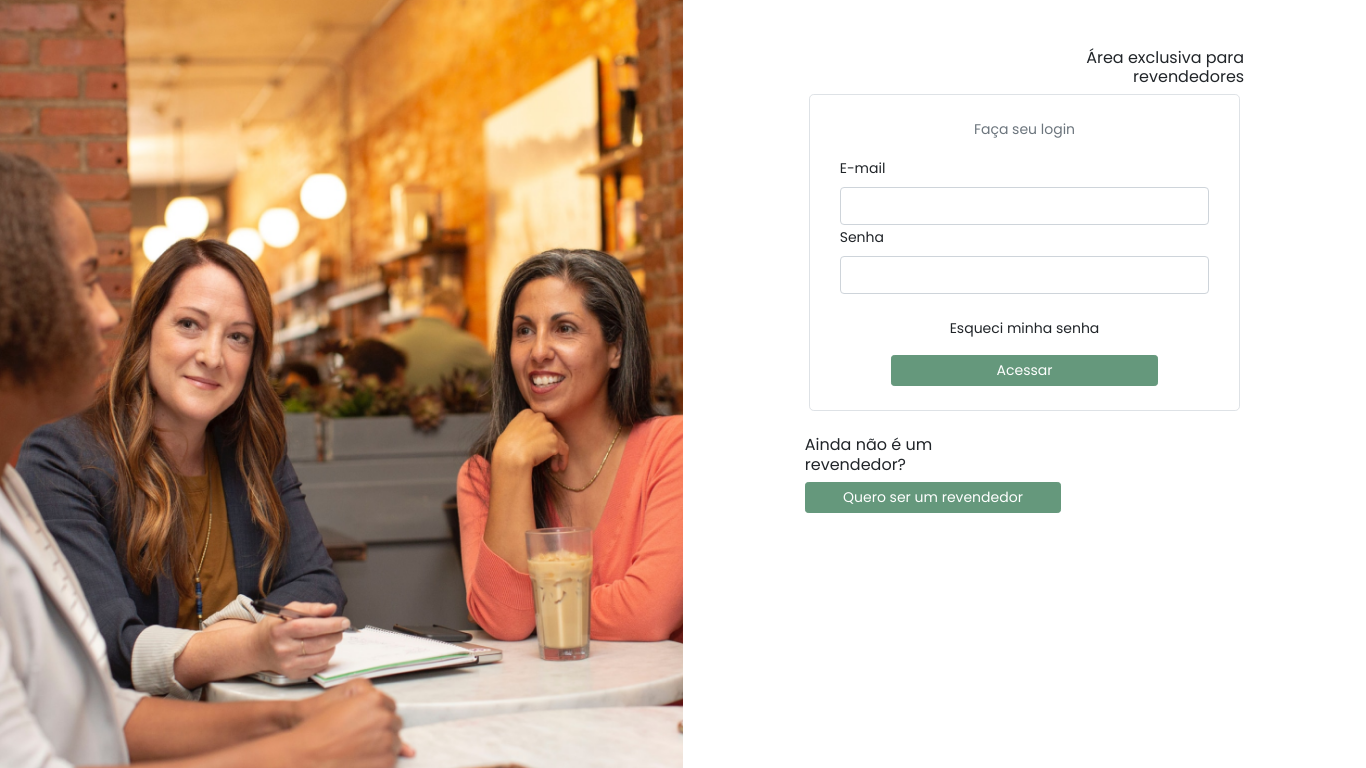
it: Testando página de Login › Deve não conseguir efetuar login, sem preencher senha
In the field with test id "LoginForm_Input_Email": (1024, 206) [840,187,1209,225], type "johndoe@mail.com"
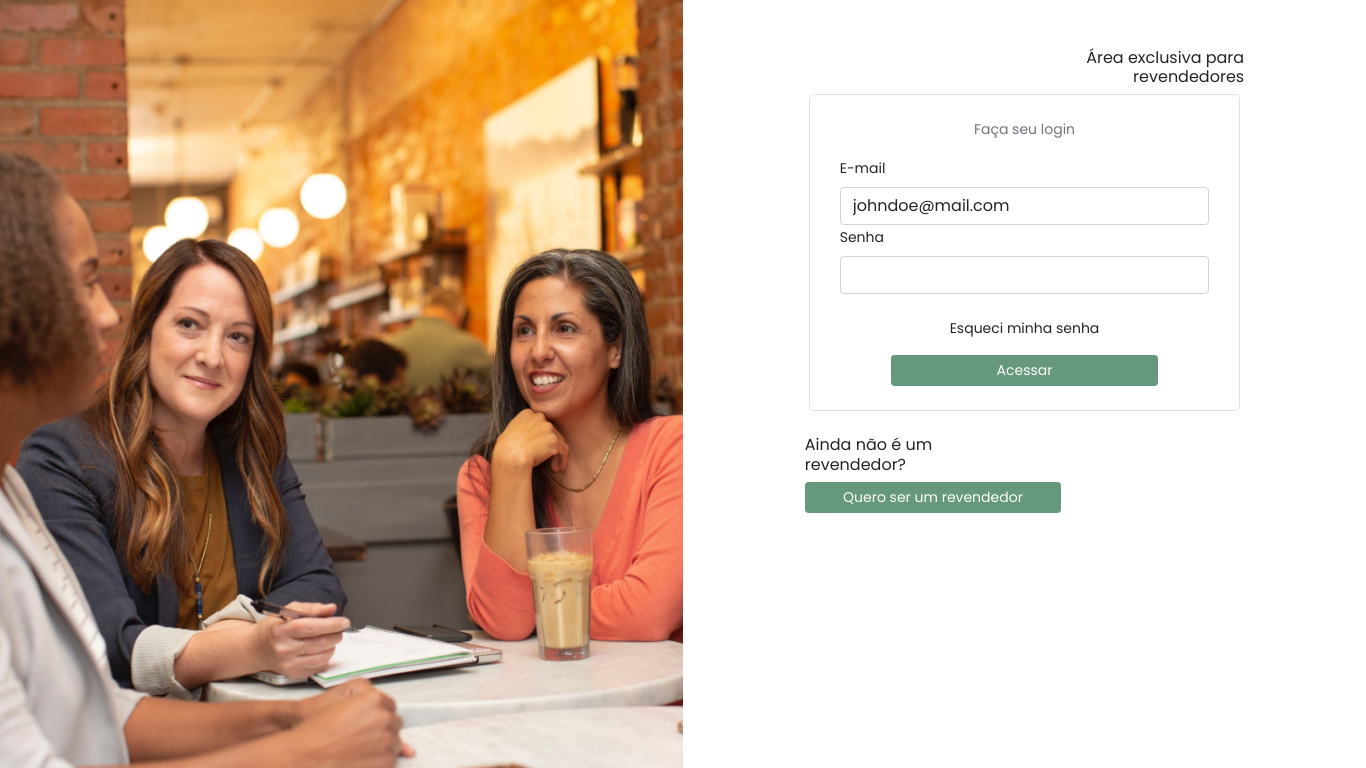
Submit the form from the button with test id "LoginForm_Button_Login", box [890,355,1158,386]
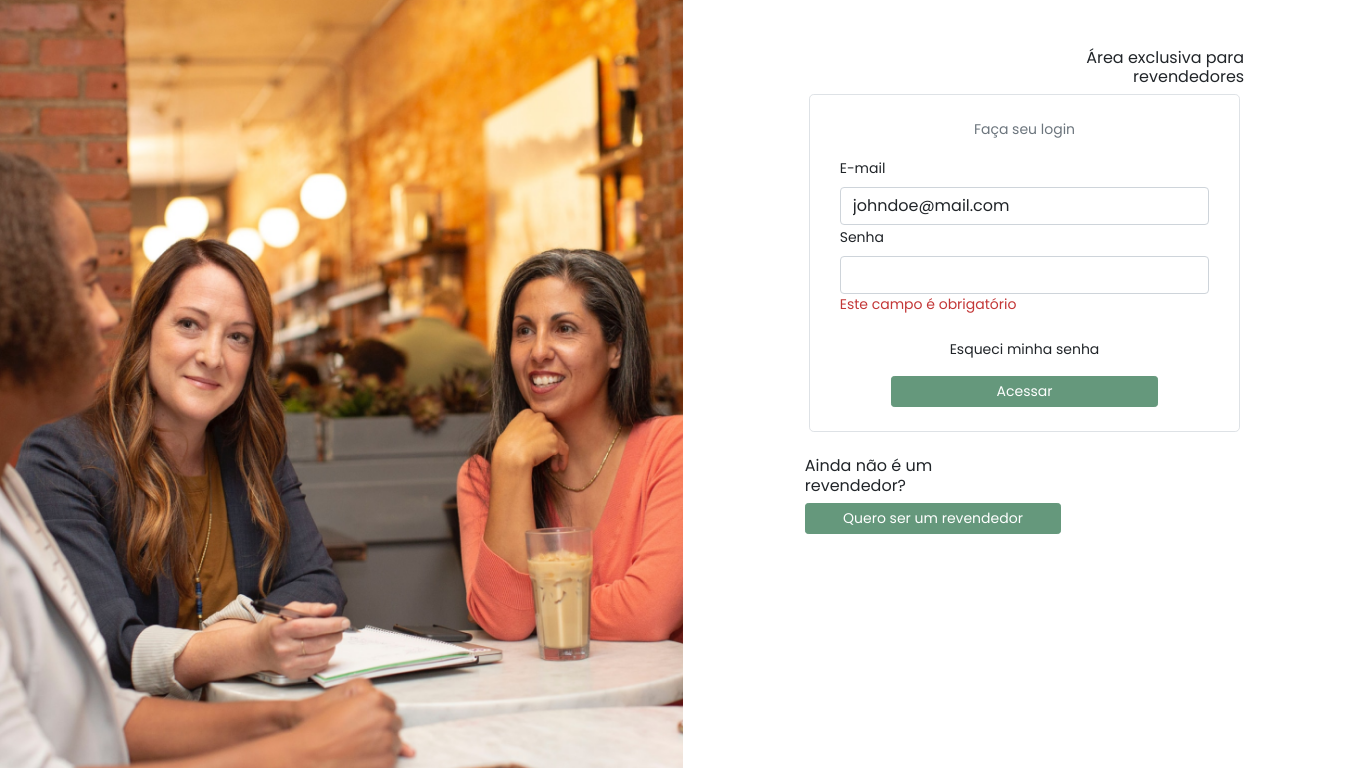
Expected: the password field with test id "LoginForm_Input_Password" is empty, [840,256,1209,294]
Result: the text with test id "Input_ErrorMessage" reads "Este campo é obrigatório" at [840,294,1016,314]
